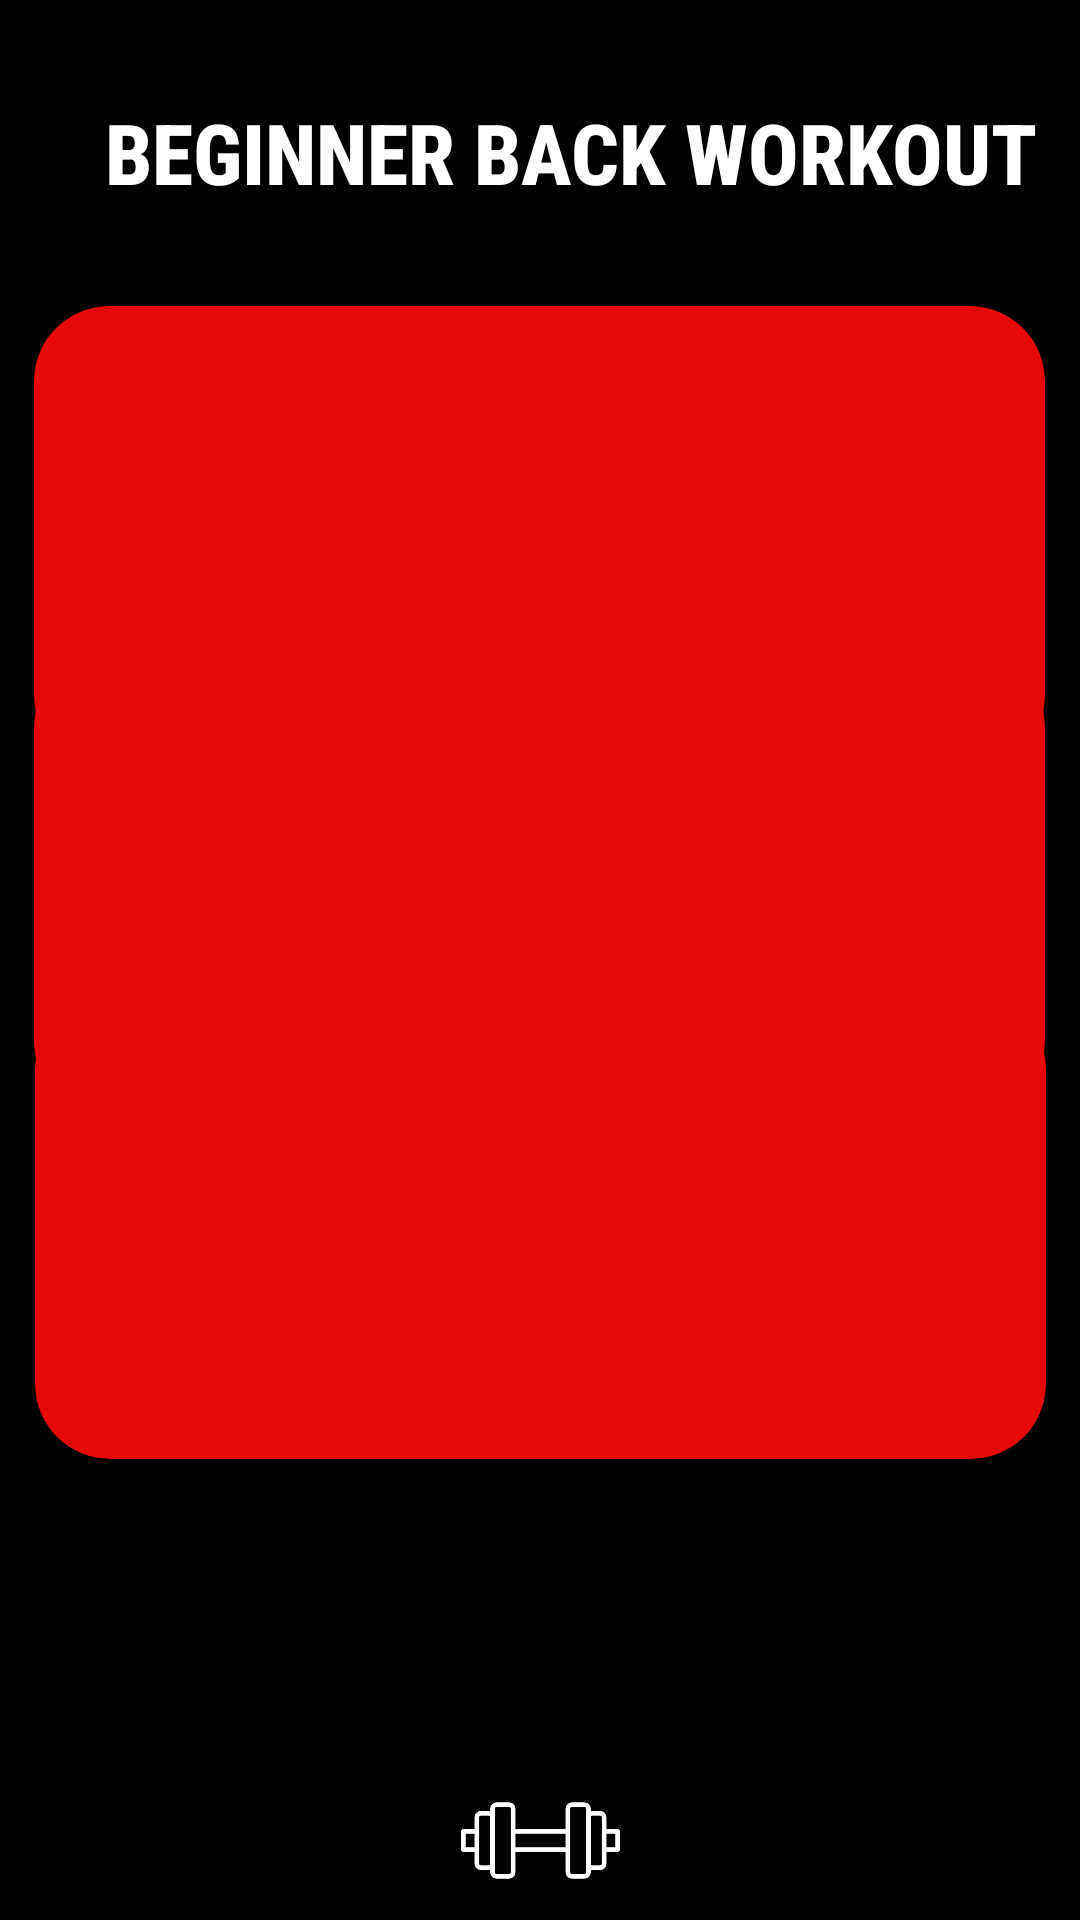

Locate icon controls on the screen. Image size 1080*1920, boxes as Rect(x1, y1, x2, y2).
imgdumbell: Rect(461, 1802, 620, 1879)
